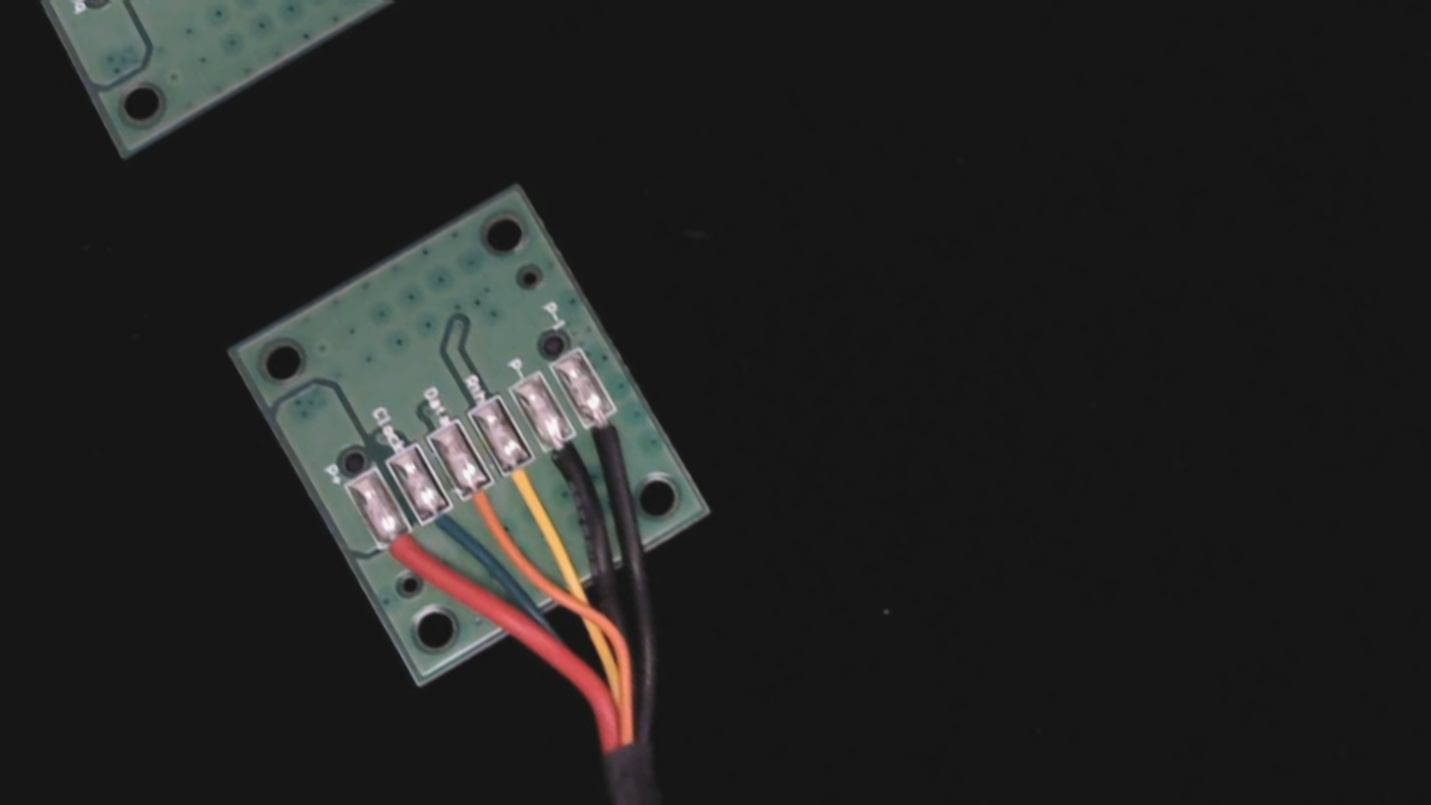Black: (527, 415, 605, 498)
Black1: (569, 392, 647, 475)
Green: (404, 488, 475, 559)
Orange: (445, 465, 515, 539)
Red: (363, 511, 432, 582)
Yellow: (484, 438, 563, 519)
